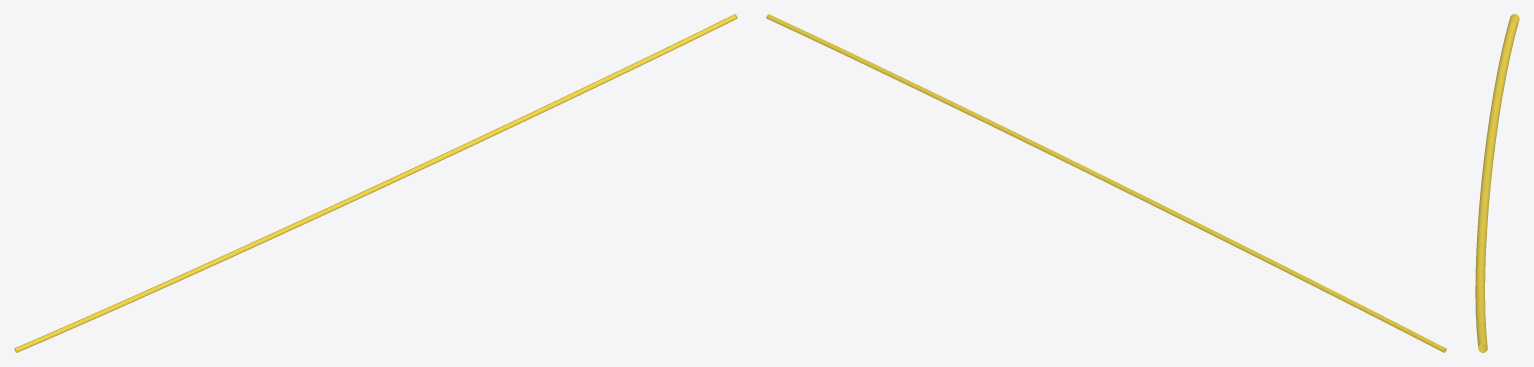
File: Event_100608114_track_43.fbx
3 renders of one model, left to right at view 1: azimuth 30°, elevation 25°; view 2: azimuth 150°, elevation 25°; view 3: azimuth 270°, elevation 25°, orthographic. The views are drawn at different scales.
Visible parts, largest first — view 1: Model; view 2: Model; view 3: Model.
Part boxes in pixels (x1,y1,x2,y2): Model: (14, 14, 737, 352); Model: (766, 14, 1446, 352); Model: (1475, 14, 1519, 352).
Size of the model in its own units: 6.24 by 1.44 by 0.1834.
